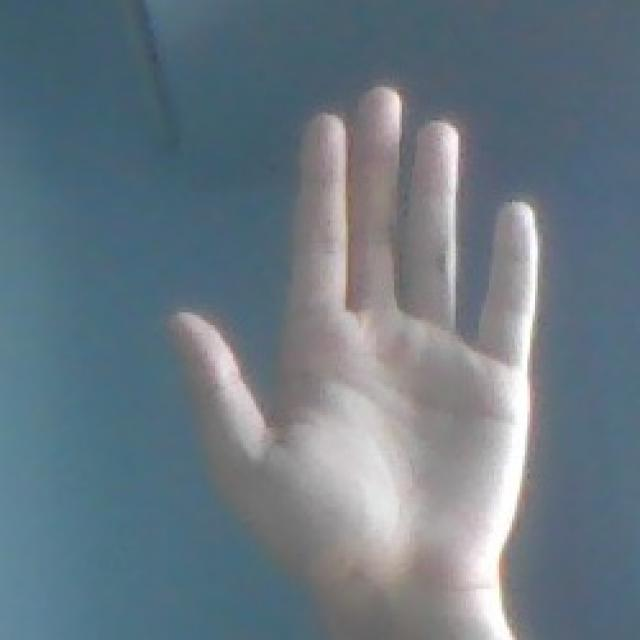Numeric-5: (174, 77, 544, 617)
